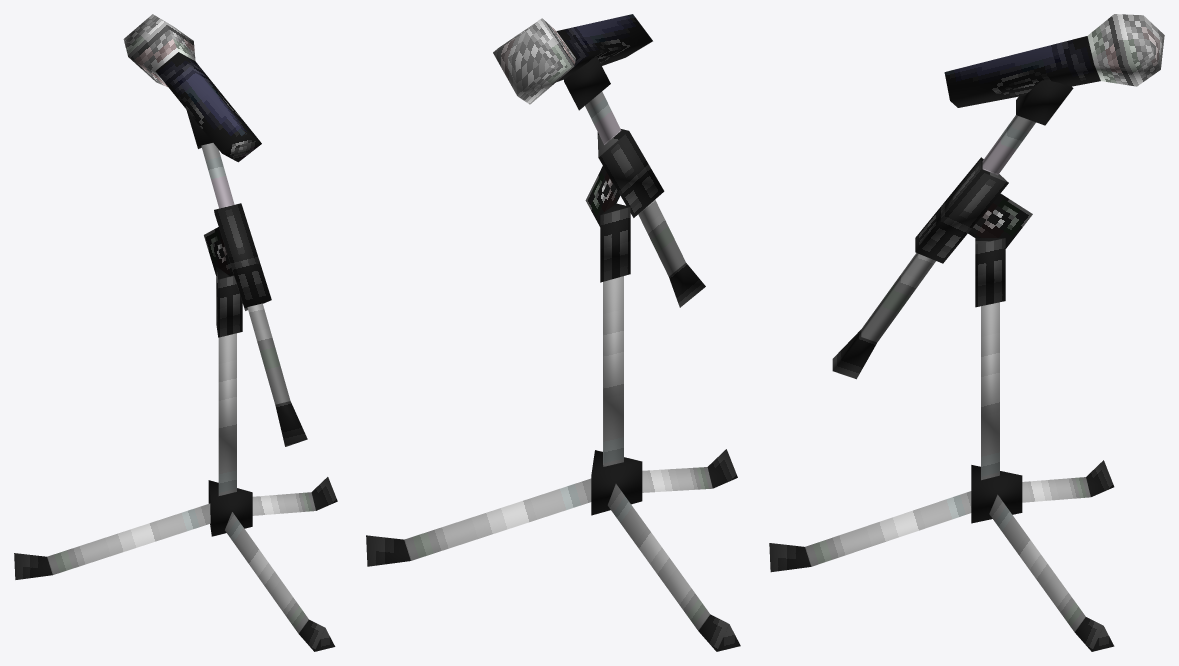
The model's file is int_oth_mike.dae.
3 views of the same model, side by side, from view 1: azimuth 30°, elevation 25°; view 2: azimuth 150°, elevation 25°; view 3: azimuth 270°, elevation 25° (orthographic). The views are drawn at different scales.
Parts seen in each view (by area): view 1: int_oth_mike; view 2: int_oth_mike; view 3: int_oth_mike.
Part boxes in pixels (x1,y1,x2,y2): int_oth_mike: (14, 14, 337, 651); int_oth_mike: (366, 14, 740, 651); int_oth_mike: (769, 14, 1164, 651).
Bounding box in the file's own units: 25.55 × 38.64 × 25.04.
1 material, 1 textured.
